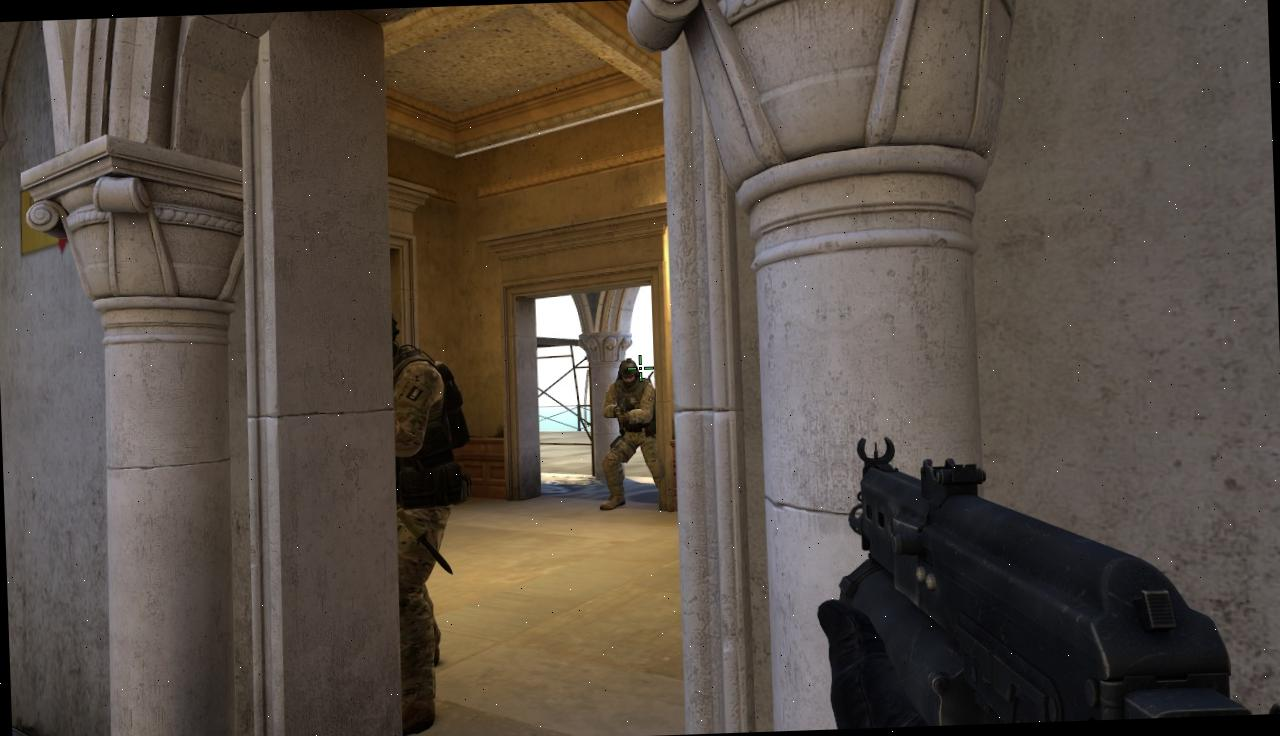ct: (389, 316, 464, 730), (600, 358, 661, 504)
cthead: (616, 359, 640, 386)
pistol: (829, 426, 1234, 730)
